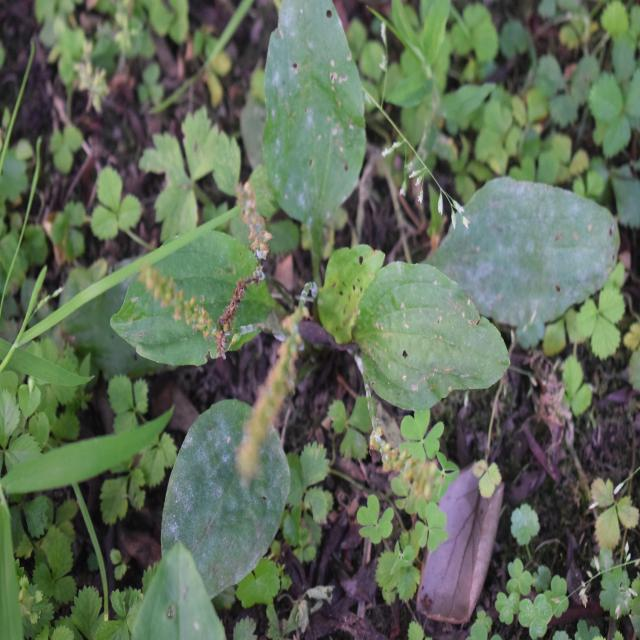plantain: (124, 16, 578, 538)
